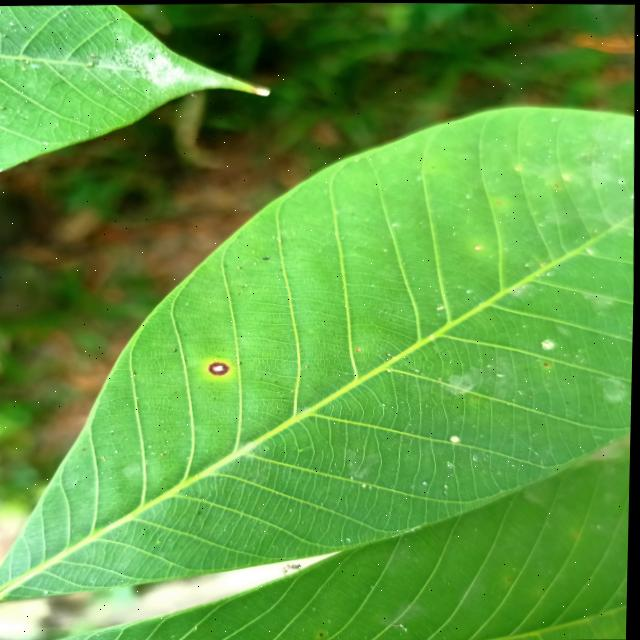Colletotrichum: (210, 361, 231, 375)
